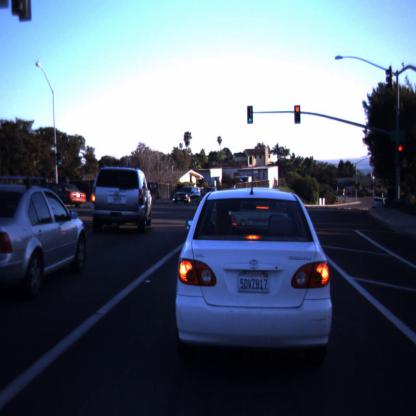trafficlight: (396, 134, 406, 164), (294, 104, 302, 125), (246, 106, 254, 123)
